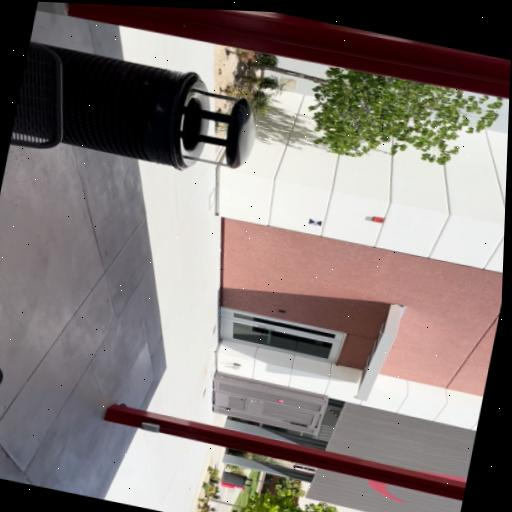target6: (308, 218, 322, 226)
